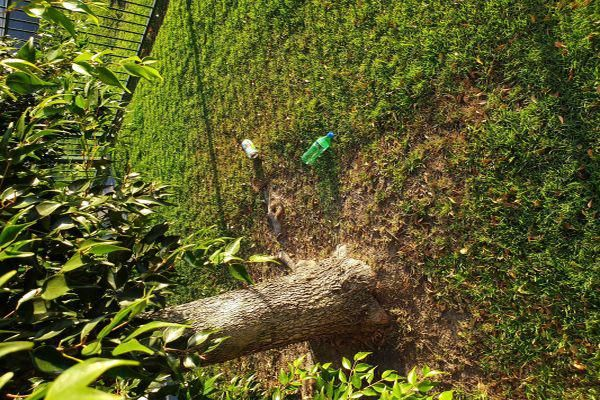Plastic Bottle: (300, 131, 335, 166), (241, 138, 259, 160)
